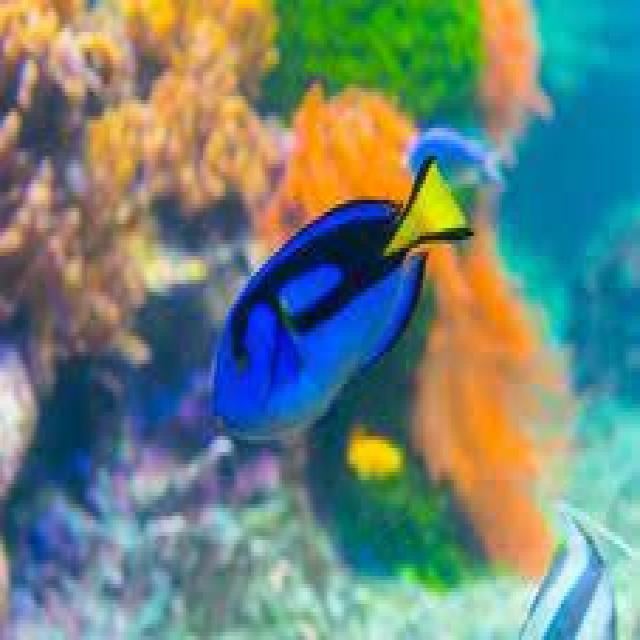TangFish: (209, 156, 474, 442)
